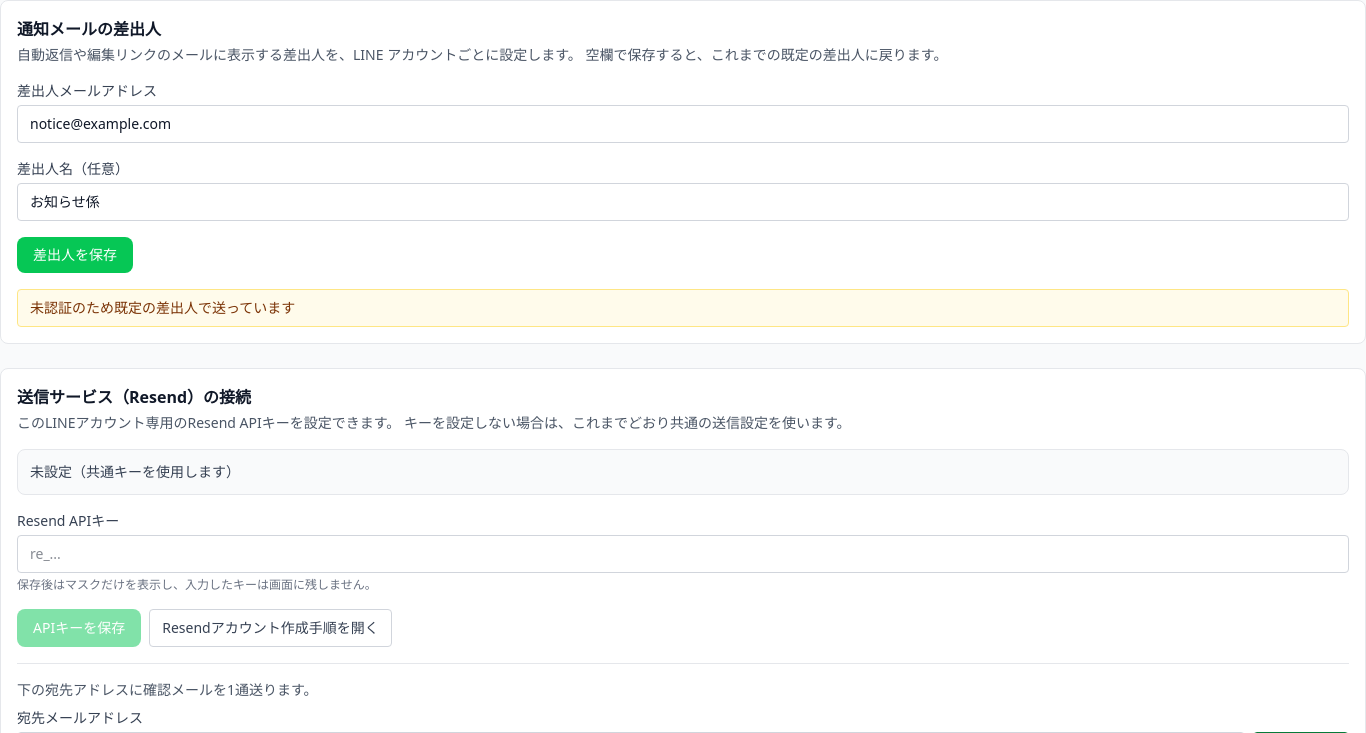
Test case: EmailSenderSettingsPanel › Resend APIキーを保存すると入力平文を消し、マスクだけを表示する
Step 1. Type "re_account_secret" into the password field labelled "Resend APIキー" → [683, 554], box 17,535 -> 1349,573
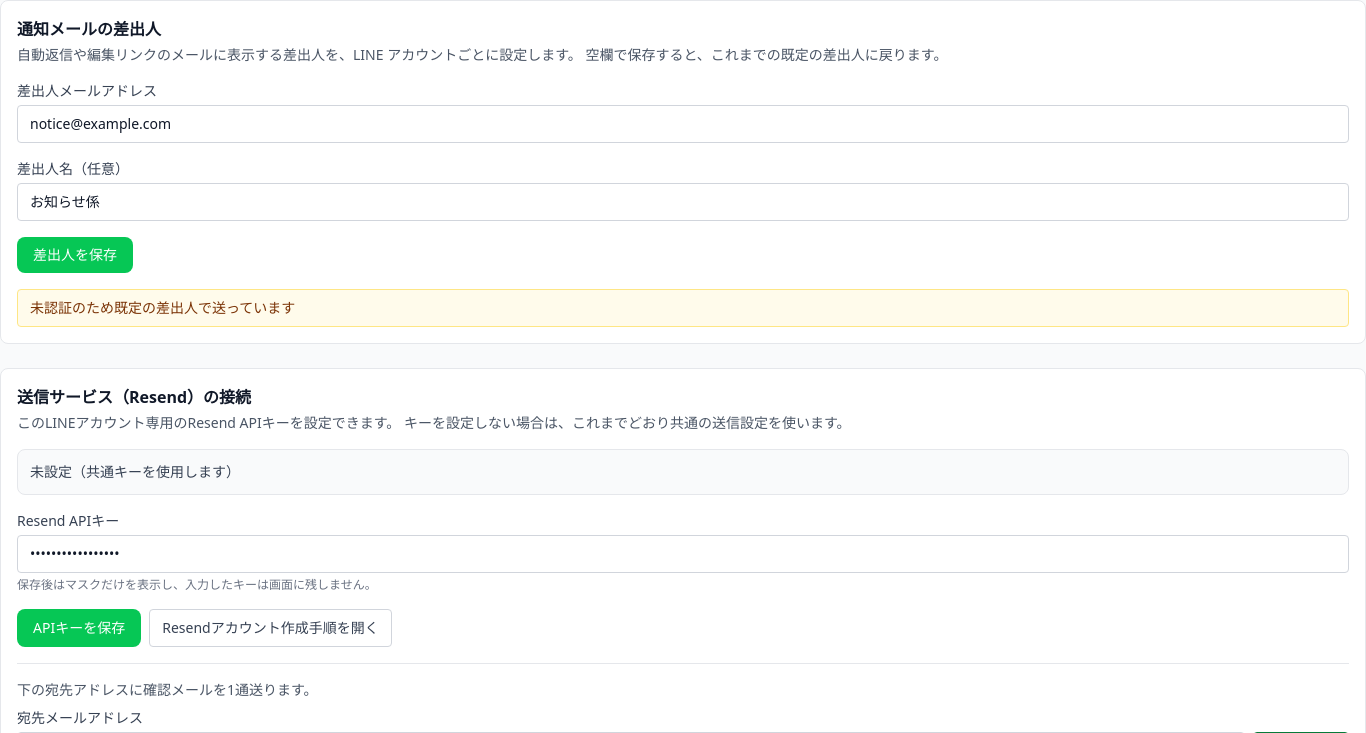
Step 2. Click the button "APIキーを保存" → [79, 628], box 17,609 -> 141,647
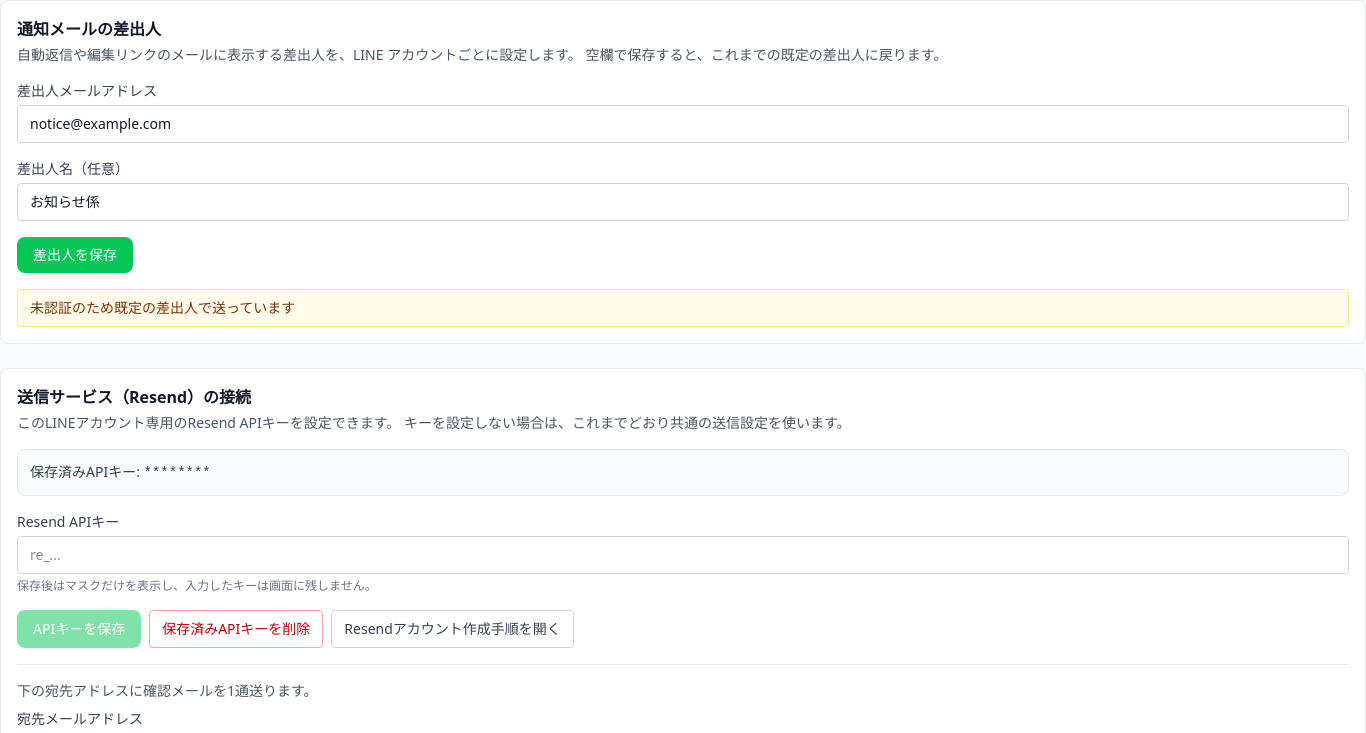
Expected: the password field labelled "Resend APIキー" is empty, 17,536 -> 1349,574
Expected: the text "********" is shown, 144,465 -> 211,481
